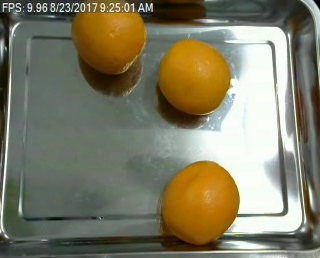Orange: (160, 160, 241, 246), (157, 39, 230, 114)
